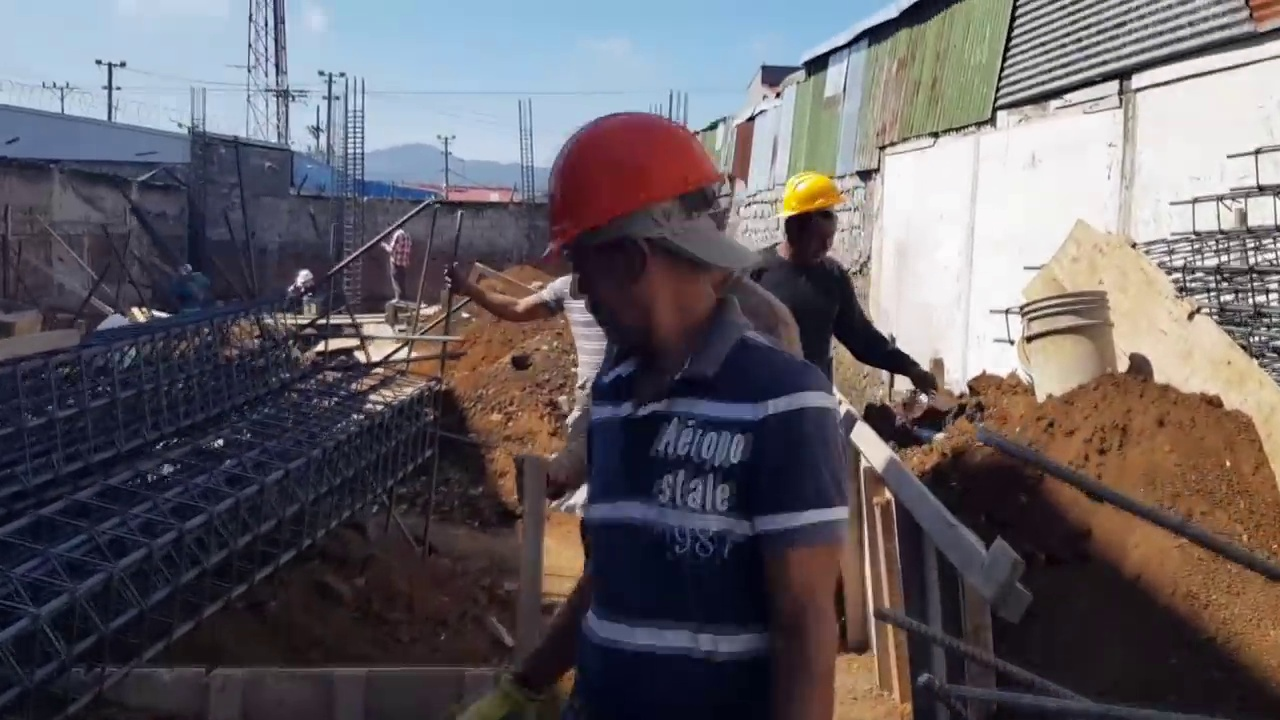helmet: (532, 106, 748, 257), (780, 170, 843, 224)
helmet-off: (387, 216, 404, 237)
helmet-on: (531, 104, 745, 366), (780, 171, 845, 272)
person: (502, 106, 845, 720), (744, 167, 939, 413), (383, 216, 416, 305)
